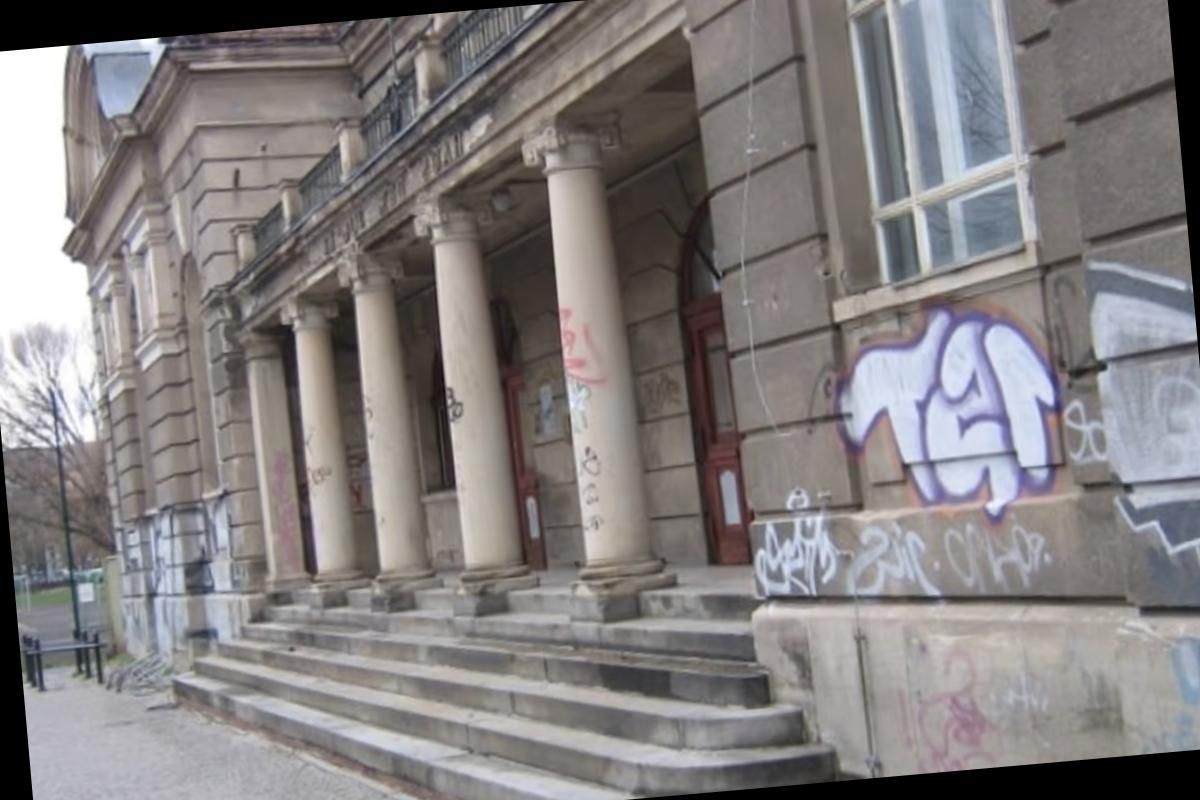graffiti: (830, 324, 1072, 507), (756, 482, 1062, 615), (1084, 259, 1200, 557), (112, 489, 248, 664), (902, 637, 1000, 774), (558, 304, 614, 543), (261, 445, 295, 577), (1163, 632, 1200, 735), (632, 372, 692, 419), (529, 372, 560, 443), (306, 456, 331, 496), (448, 381, 458, 427)
